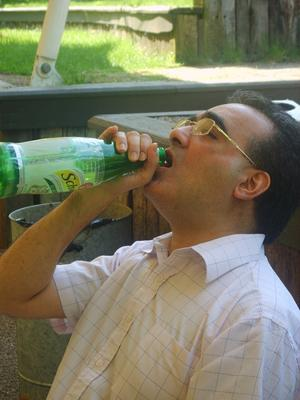person: (1, 89, 300, 398)
